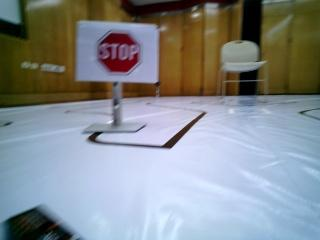stop: (92, 19, 147, 80)
